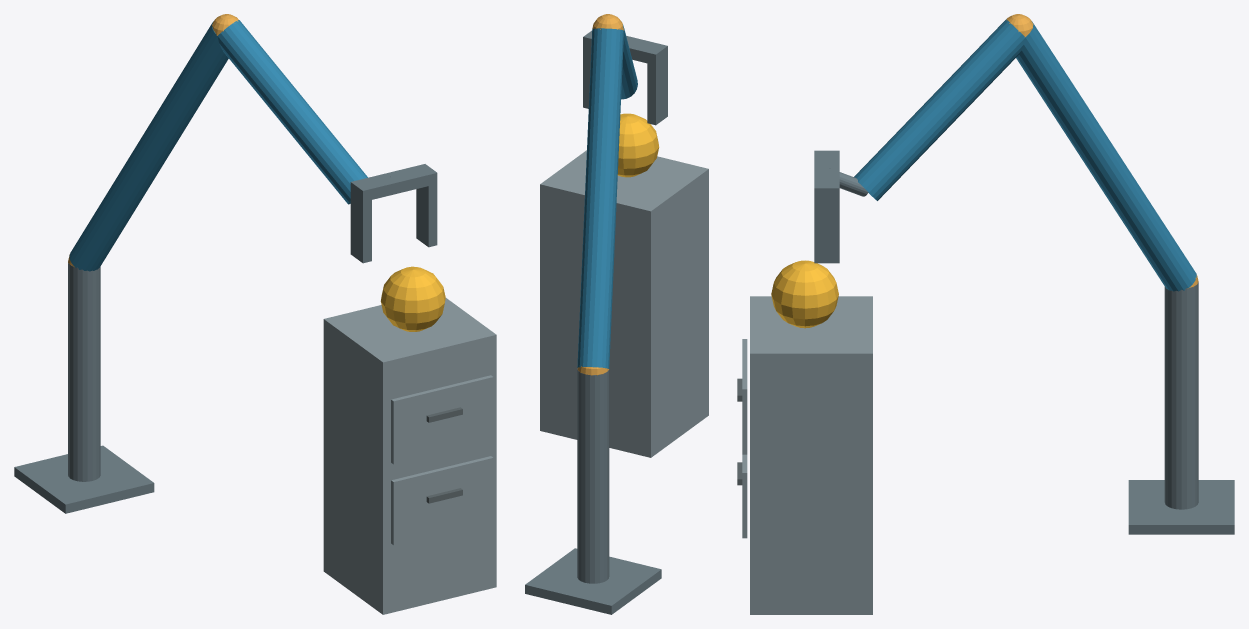
3 views of the same model, side by side, from view 1: azimuth 30°, elevation 25°; view 2: azimuth 150°, elevation 25°; view 3: azimuth 270°, elevation 25° (orthographic). The views are drawn at different scales.
Visible parts, largest first — view 1: cabinet_1 body, moving link 1, fixed post, moving link 2, cabinet_1 drawer front, cabinet_1 drawer front.001, pedestal, ball ball_1, gripper bridge, gripper finger -1, gripper finger 1; view 2: cabinet_1 body, moving link 1, fixed post, pedestal, ball ball_1, gripper finger -1, gripper bridge, moving link 2, gripper finger 1, joint 2; view 3: cabinet_1 body, moving link 1, fixed post, moving link 2, pedestal, ball ball_1, gripper finger 1, gripper bridge, cabinet_1 drawer front.001.
Boxes of the visible parts, box(x1,y1,x2,y2) form: cabinet_1 body: box(323, 298, 496, 614); moving link 1: box(69, 21, 228, 271); fixed post: box(68, 261, 100, 481); moving link 2: box(217, 20, 367, 204); cabinet_1 drawer front: box(391, 456, 493, 545); cabinet_1 drawer front.001: box(391, 375, 493, 464); pedestal: box(14, 445, 154, 513); ball ball_1: box(380, 266, 445, 331); gripper bridge: box(350, 164, 437, 201); gripper finger -1: box(350, 193, 371, 263); gripper finger 1: box(416, 184, 437, 247); cabinet_1 body: box(540, 150, 708, 457); moving link 1: box(577, 28, 623, 368); fixed post: box(577, 369, 609, 583); pedestal: box(525, 548, 661, 614); ball ball_1: box(617, 113, 659, 177); gripper finger -1: box(647, 57, 667, 125); gripper bridge: box(583, 30, 667, 65); moving link 2: box(621, 24, 637, 99); gripper finger 1: box(583, 48, 591, 108); joint 2: box(592, 14, 623, 30); cabinet_1 body: box(750, 296, 872, 614); moving link 1: box(1016, 21, 1196, 291); fixed post: box(1164, 282, 1198, 509); moving link 2: box(854, 19, 1025, 200); pedestal: box(1128, 480, 1234, 534); ball ball_1: box(771, 260, 838, 328); gripper finger 1: box(814, 200, 839, 263); gripper bridge: box(814, 150, 839, 199); cabinet_1 drawer front.001: box(742, 339, 747, 454).
Bounding box in the file's own units: 0.6992 × 1.38 × 1.17.
